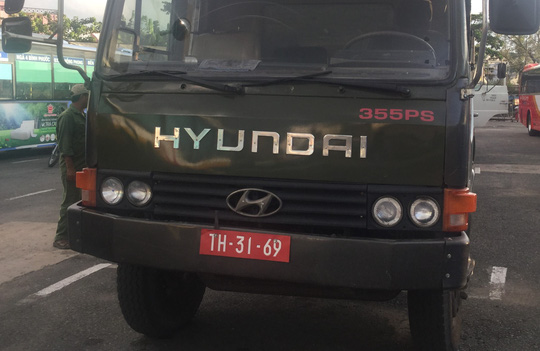plate: (195, 224, 294, 267)
